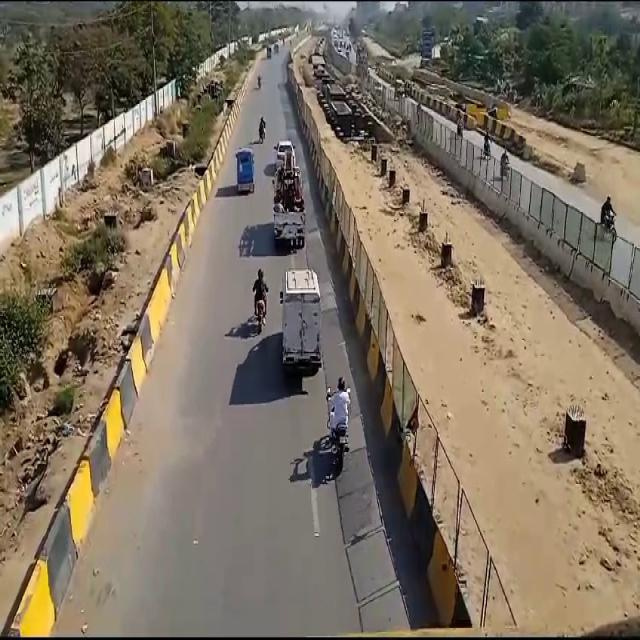motorbike: (328, 368, 352, 468), (249, 264, 273, 341)
truck: (273, 148, 307, 252)
